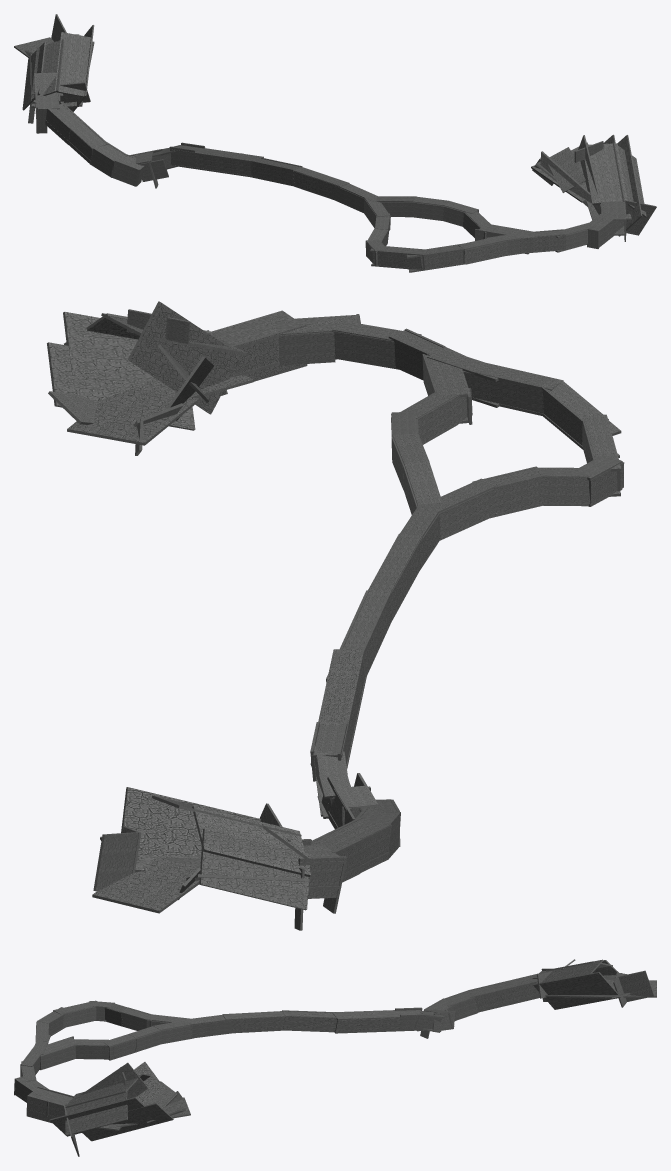
Rendered from cave2.gltf.
3 renders of one model, top to bottom at view 1: azimuth 30°, elevation 25°; view 2: azimuth 150°, elevation 25°; view 3: azimuth 270°, elevation 25°, orthographic. The views are drawn at different scales.
Parts seen in each view (by area): view 1: Cave2; view 2: Cave2, CSGBox3D; view 3: Cave2.
Boxes of the visible parts, x1,y1,x2,y2 form: Cave2: (22, 14, 656, 272); Cave2: (47, 301, 624, 930); CSGBox3D: (92, 857, 199, 913); Cave2: (14, 959, 653, 1156).
Bounding box in the file's own units: 282 × 74.16 × 449.
1 material, 1 textured.
